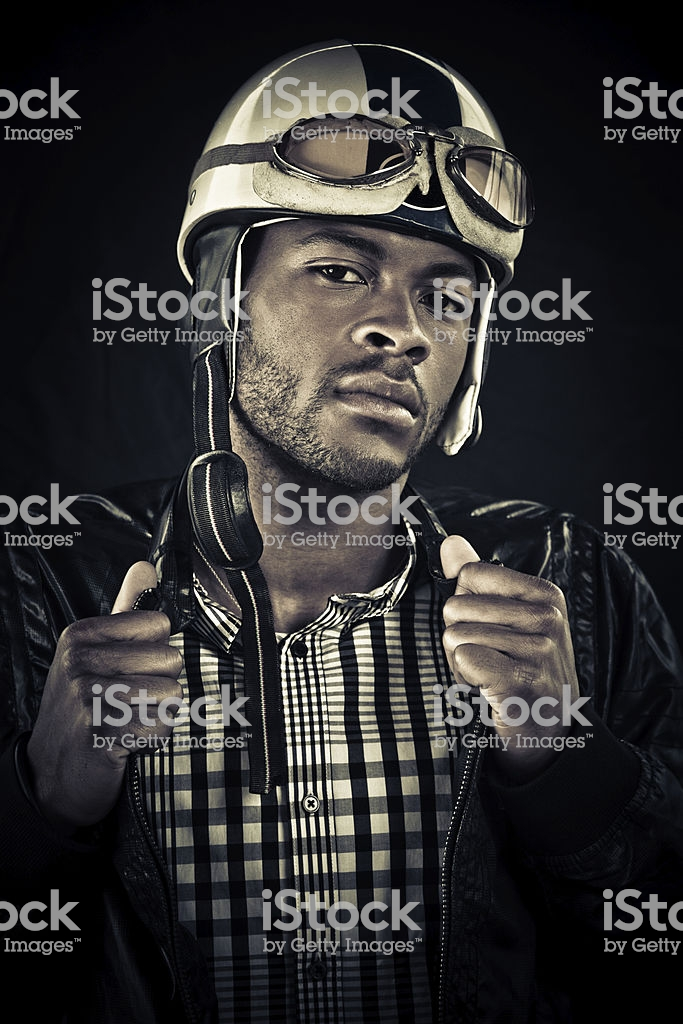helmet: (177, 61, 508, 306)
